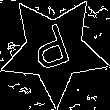P_S: (29, 20, 80, 80)
